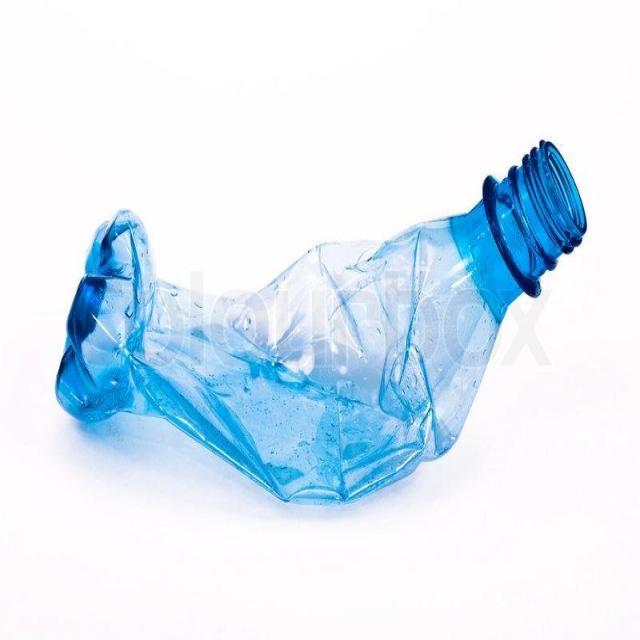plastic_bottle: (63, 135, 580, 515)
